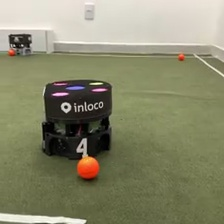ball: (75, 154, 100, 180), (178, 52, 186, 61), (7, 47, 15, 56)
goal: (1, 28, 56, 54)
robot: (39, 77, 113, 160), (6, 33, 33, 56)
